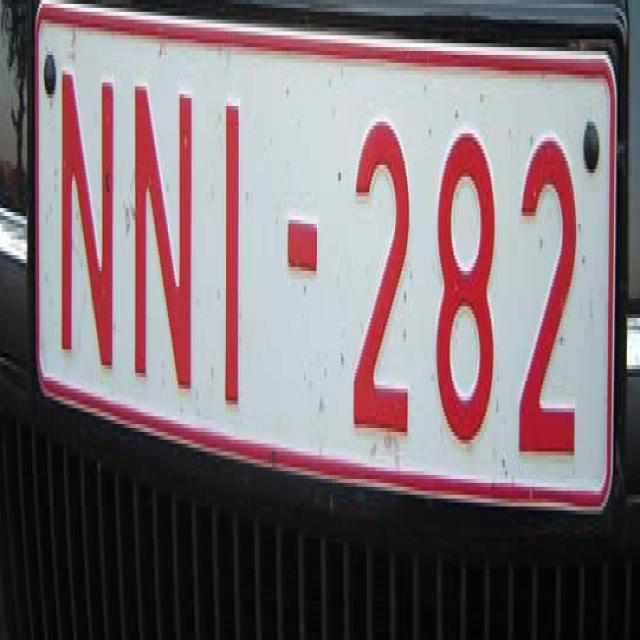Autre: (35, 18, 618, 525)
